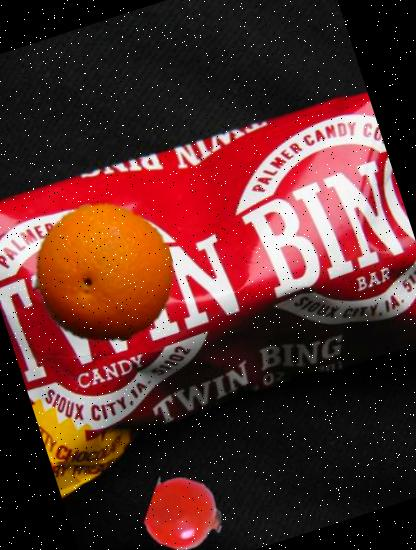Orange: (13, 183, 192, 363)
Redcurrant: (138, 467, 233, 550)
